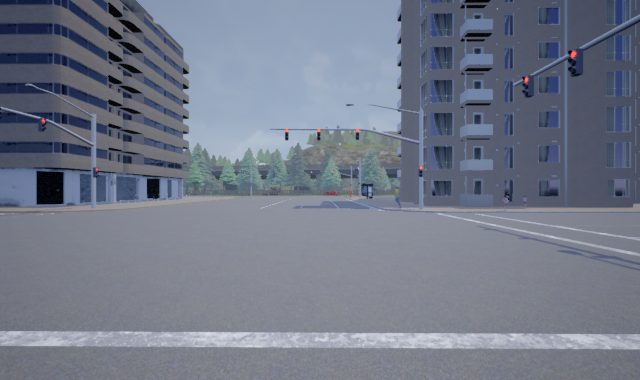pedestrian: (392, 185, 404, 208), (500, 195, 511, 210), (520, 194, 530, 208), (499, 194, 508, 208)
